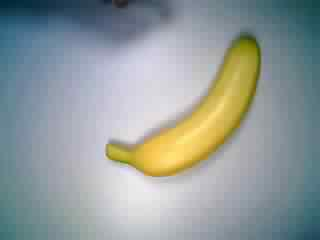banana: (101, 29, 264, 180)
